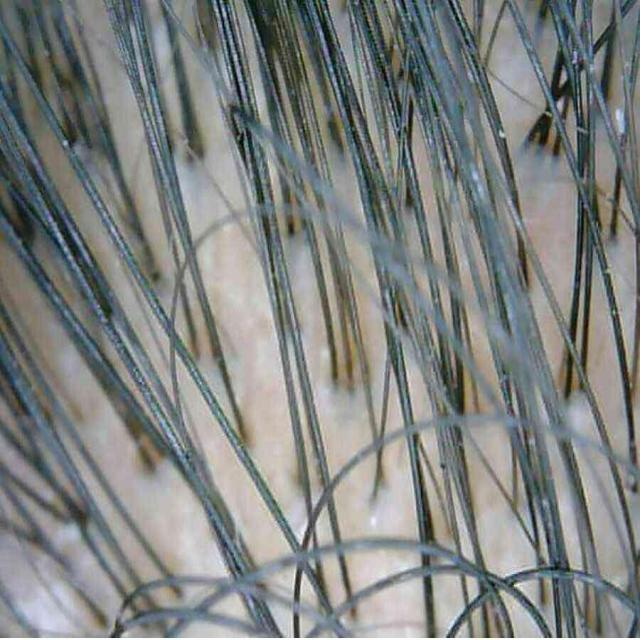d: (615, 108, 626, 133)
